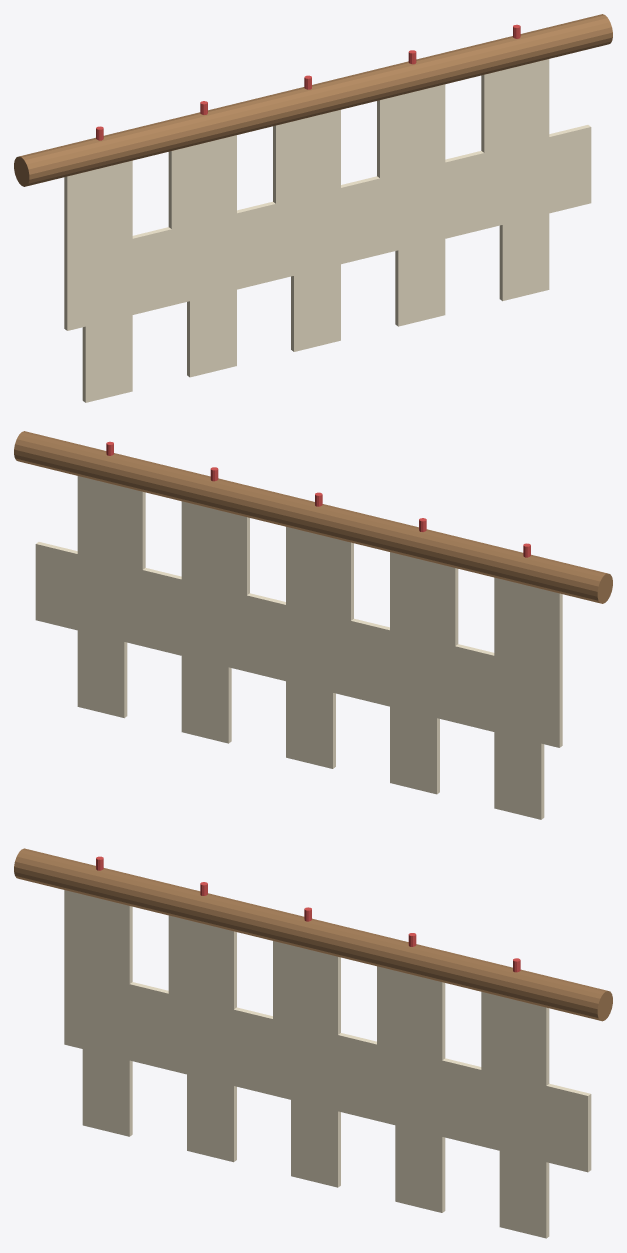
File: ritual_shide.glb
3 views of the same model, one above another, from view 1: azimuth 30°, elevation 25°; view 2: azimuth 150°, elevation 25°; view 3: azimuth 330°, elevation 25° (orthographic).
Visible parts, largest first — view 1: Shide sacred bamboo crossbar, Shide folded zigzag paper, Shide folded zigzag paper.003, Shide folded zigzag paper.004, Shide folded zigzag paper.001, Shide folded zigzag paper.002; view 2: Shide sacred bamboo crossbar, Shide folded zigzag paper, Shide folded zigzag paper.003, Shide folded zigzag paper.004, Shide folded zigzag paper.002, Shide folded zigzag paper.001; view 3: Shide sacred bamboo crossbar, Shide folded zigzag paper.004, Shide folded zigzag paper, Shide folded zigzag paper.003, Shide folded zigzag paper.001, Shide folded zigzag paper.002.
Boxes of the visible parts, x1=… form: Shide sacred bamboo crossbar: x1=14, y1=14, x2=612, y2=186; Shide folded zigzag paper: x1=64, y1=160, x2=174, y2=402; Shide folded zigzag paper.003: x1=377, y1=84, x2=486, y2=326; Shide folded zigzag paper.004: x1=481, y1=59, x2=591, y2=301; Shide folded zigzag paper.001: x1=168, y1=135, x2=278, y2=377; Shide folded zigzag paper.002: x1=273, y1=110, x2=379, y2=351; Shide sacred bamboo crossbar: x1=14, y1=431, x2=612, y2=603; Shide folded zigzag paper: x1=453, y1=577, x2=562, y2=819; Shide folded zigzag paper.003: x1=140, y1=501, x2=249, y2=743; Shide folded zigzag paper.004: x1=35, y1=476, x2=145, y2=718; Shide folded zigzag paper.002: x1=244, y1=527, x2=353, y2=768; Shide folded zigzag paper.001: x1=351, y1=552, x2=458, y2=794; Shide sacred bamboo crossbar: x1=14, y1=848, x2=612, y2=1021; Shide folded zigzag paper.004: x1=481, y1=992, x2=591, y2=1238; Shide folded zigzag paper: x1=64, y1=890, x2=171, y2=1136; Shide folded zigzag paper.003: x1=377, y1=966, x2=483, y2=1212; Shide folded zigzag paper.001: x1=168, y1=915, x2=275, y2=1162; Shide folded zigzag paper.002: x1=273, y1=941, x2=376, y2=1187.
Bounding box in the file's own units: 1.95 × 0.8618 × 0.0892.
